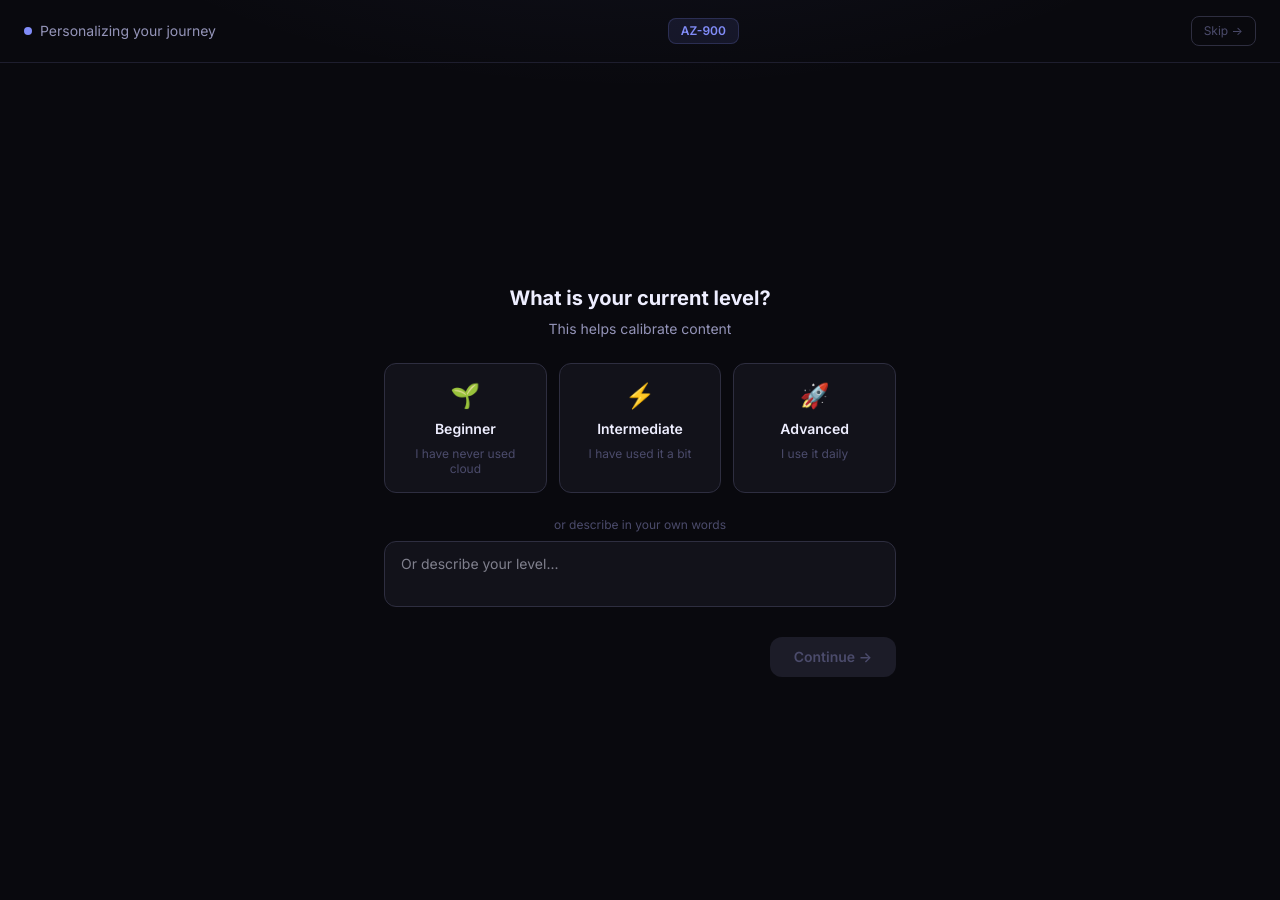
Test: OnboardingWizard — skip › clicking Skip on first turn shows warning modal
Click the button "Skip →" at (1223, 31), box [1191, 16, 1256, 46]
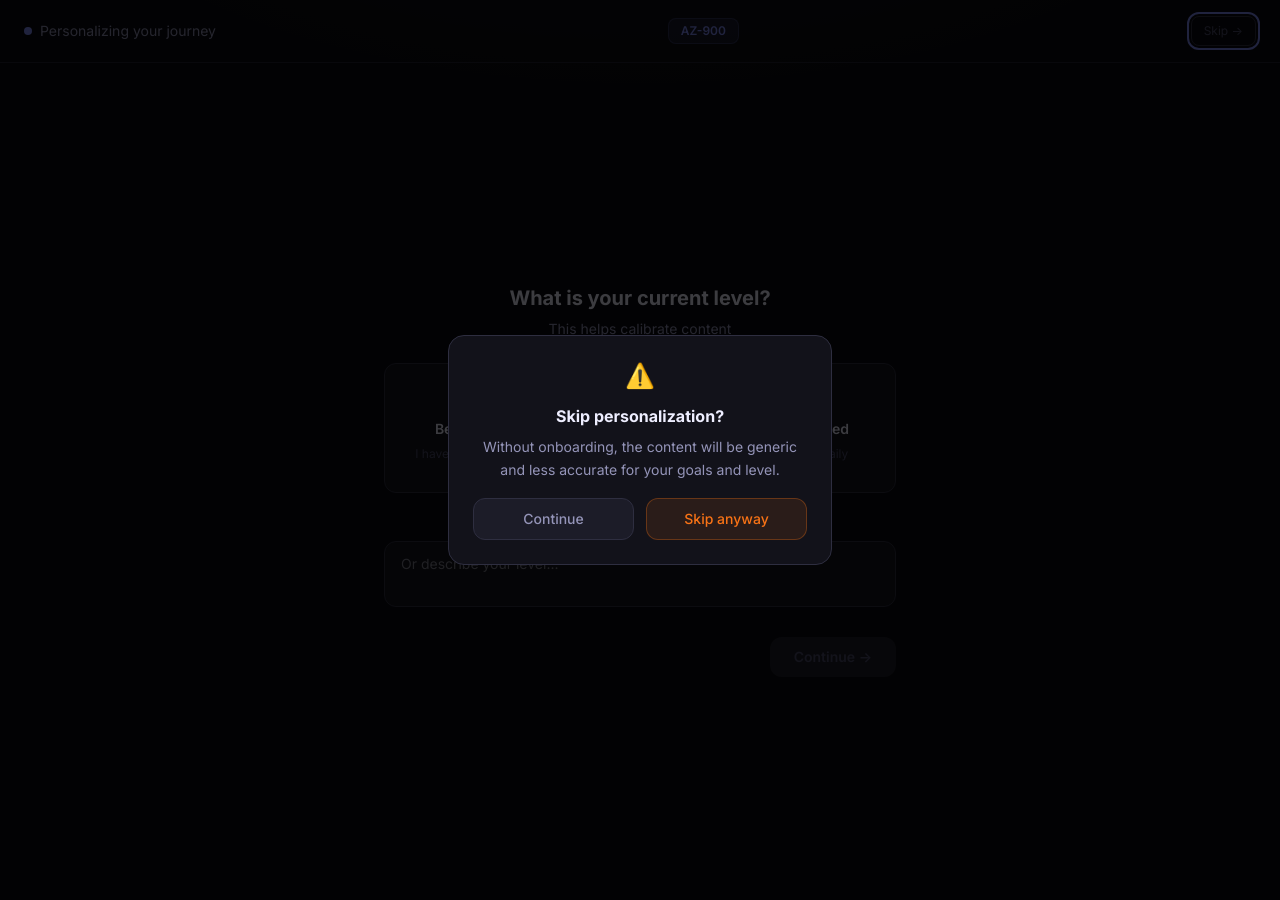
Check: the heading "Skip personalization?" is shown, box [556, 406, 724, 426]
